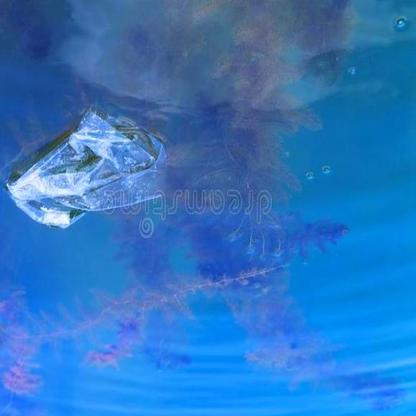plastic bag: (5, 104, 171, 229)
